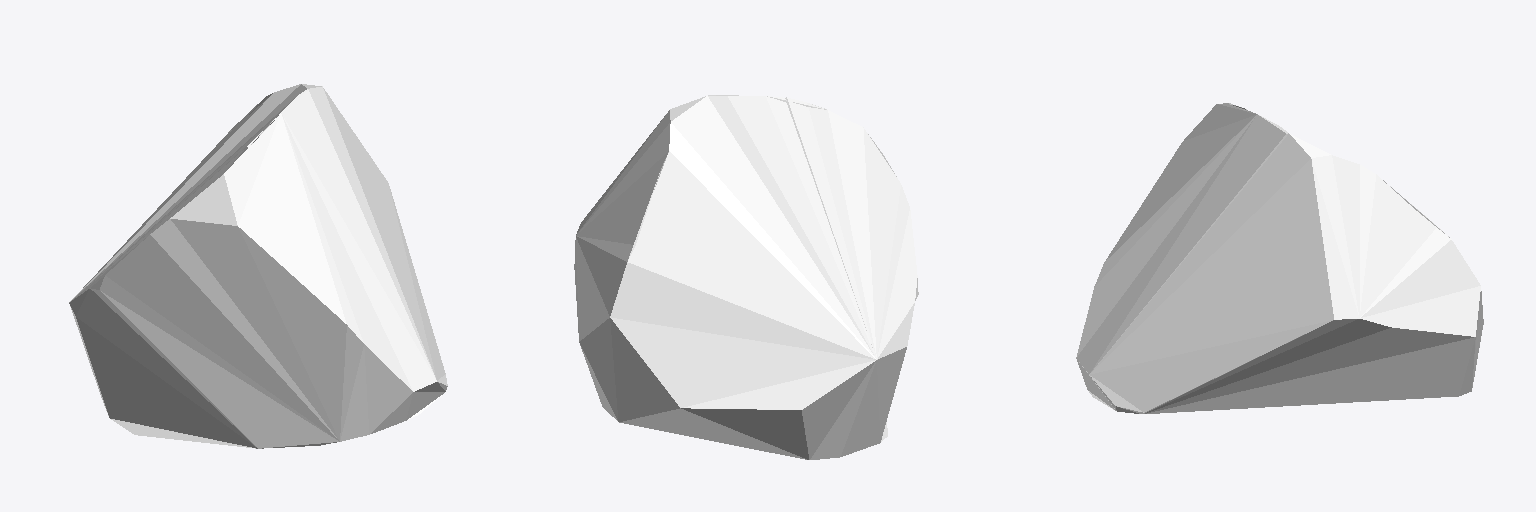
Rendered from Stone_01.obj.
3 views of the same model, side by side, from view 1: azimuth 30°, elevation 25°; view 2: azimuth 150°, elevation 25°; view 3: azimuth 270°, elevation 25° (orthographic).
Visible parts, largest first — view 1: Sphere; view 2: Sphere; view 3: Sphere.
Boxes of the visible parts, x1,y1,x2,y2 form: Sphere: [69, 84, 447, 448]; Sphere: [574, 95, 918, 459]; Sphere: [1076, 103, 1483, 413].
Size of the model in its own units: 0.1863 by 0.167 by 0.2057.